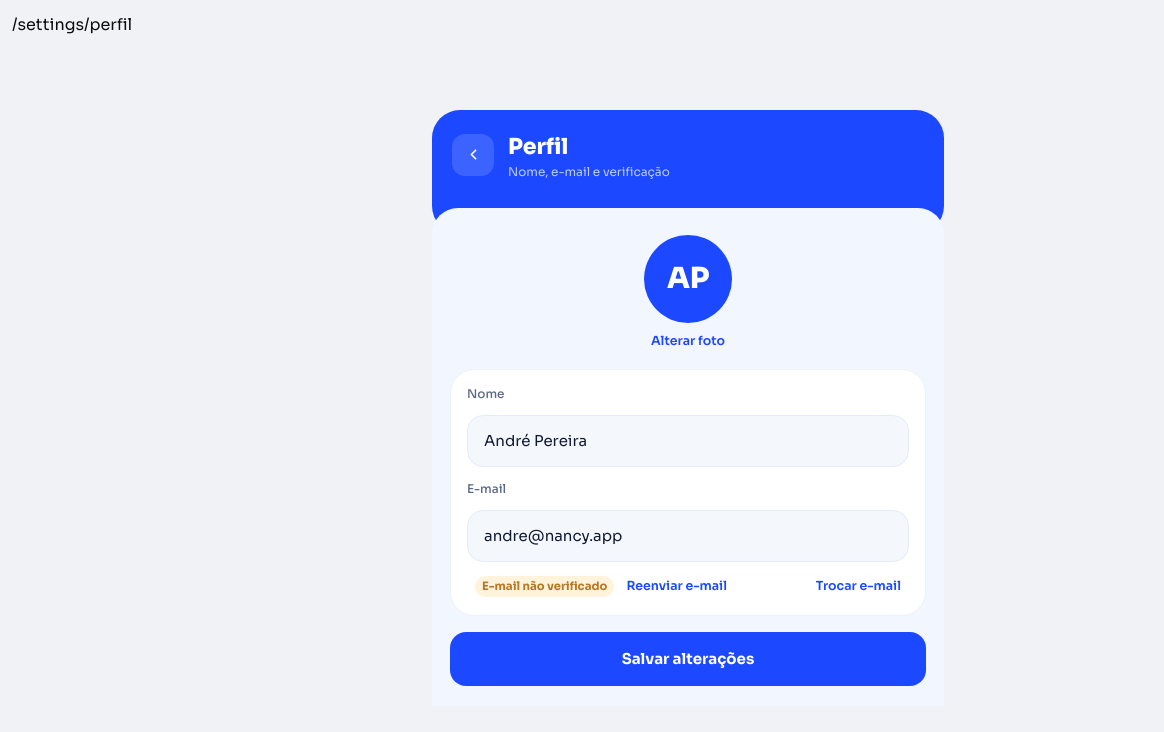
Test: Dados pessoais › falha ao reenviar mostra o erro
Click the button "Reenviar e-mail": (677, 586) [626,578,727,594]
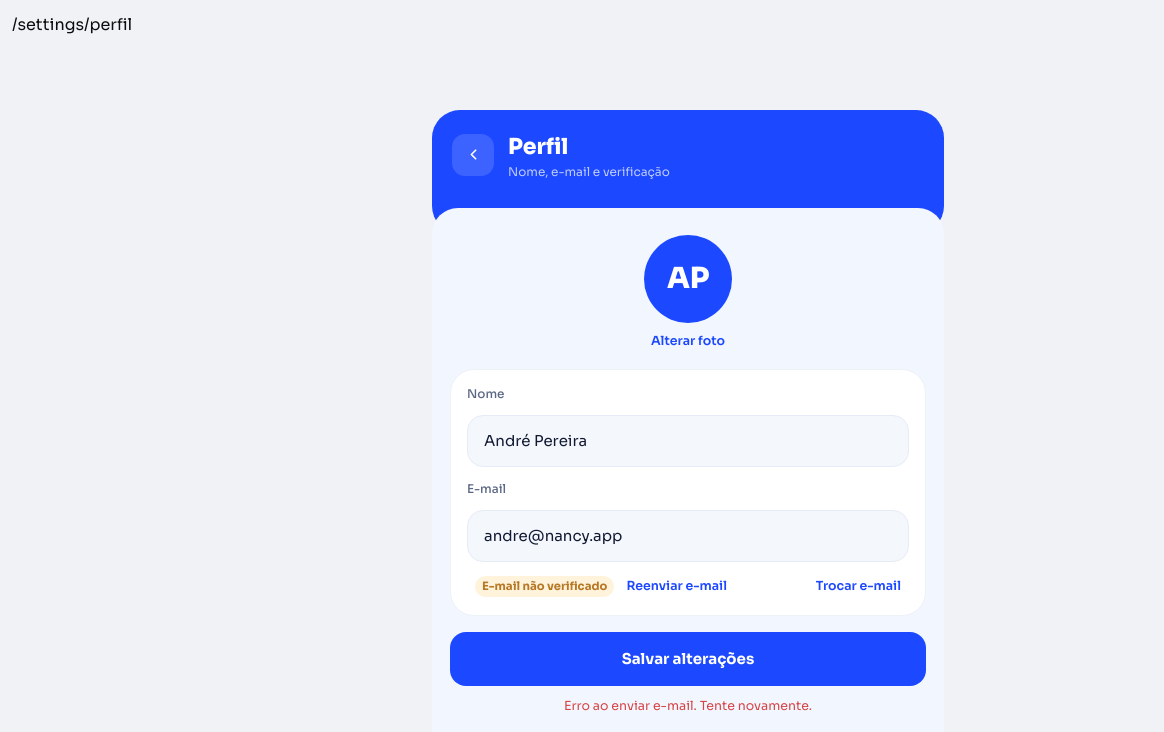
Now the text "Erro ao enviar e-mail. Tente novamente." is shown, box [564,698,812,714]
